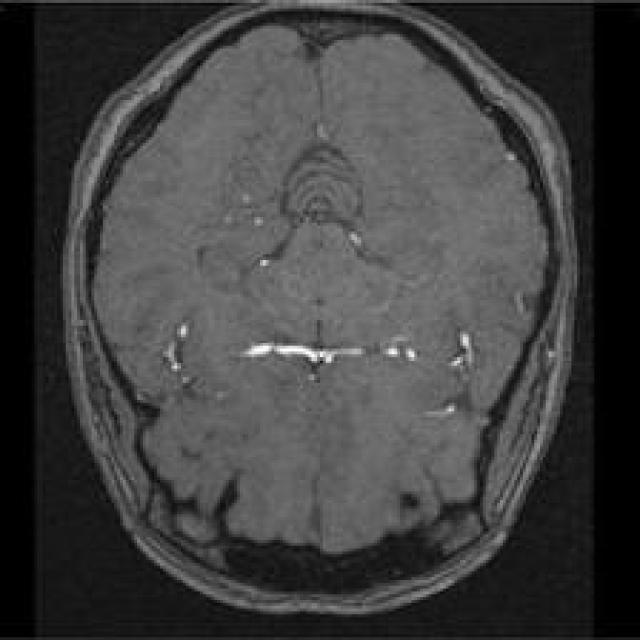no_tumor: (56, 0, 582, 624)
